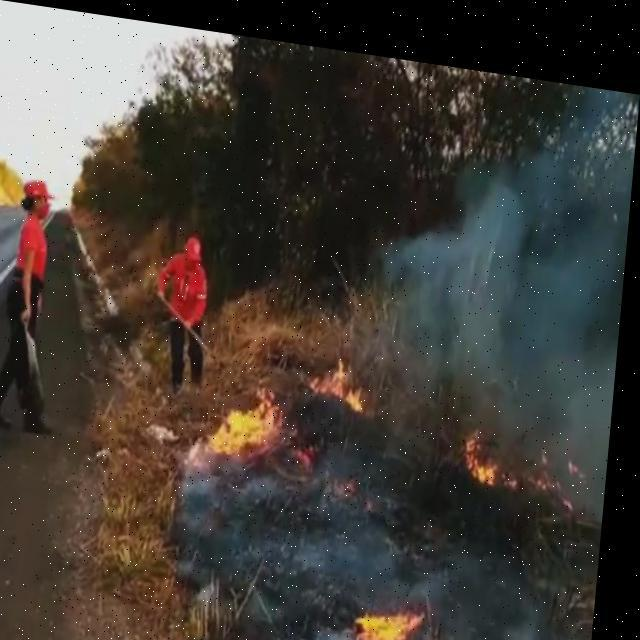Fire: (218, 377, 286, 452), (366, 588, 438, 638), (330, 352, 371, 403), (467, 422, 508, 469)
